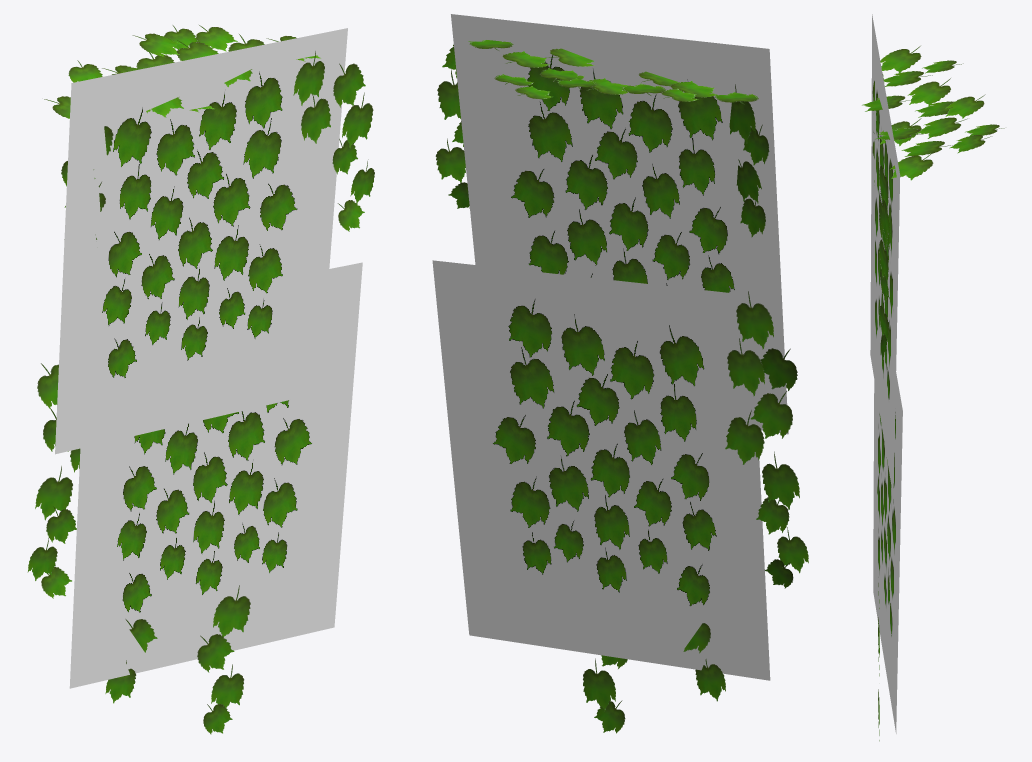
The model's file is tuta_long.FBX.
3 renders of one model, left to right at view 1: azimuth 30°, elevation 25°; view 2: azimuth 150°, elevation 25°; view 3: azimuth 270°, elevation 25°, orthographic. The views are drawn at different scales.
Parts seen in each view (by area): view 1: オブジェクト001, Plane002; view 2: オブジェクト001, Plane002; view 3: オブジェクト001, Plane002.
Boxes of the visible parts, x1=… form: オブジェクト001: x1=55, y1=28, x2=362, y2=688; Plane002: x1=27, y1=25, x2=374, y2=734; オブジェクト001: x1=432, y1=14, x2=788, y2=680; Plane002: x1=435, y1=40, x2=808, y2=733; オブジェクト001: x1=870, y1=14, x2=902, y2=733; Plane002: x1=862, y1=46, x2=1004, y2=741.
Size of the model in its own units: 295 by 518 by 117.
